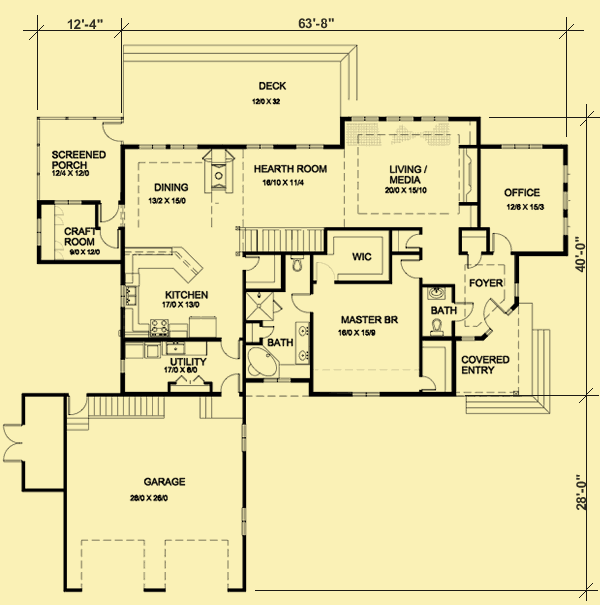kitchen has counter with cooking range and sink: (120, 234, 244, 341)
laundry room has washer and dryer: (123, 341, 244, 398)
small bathroom has small and large sink: (419, 283, 456, 341)
this bathroom has a large bathtub, dual sinks and shower space: (243, 256, 314, 383)
